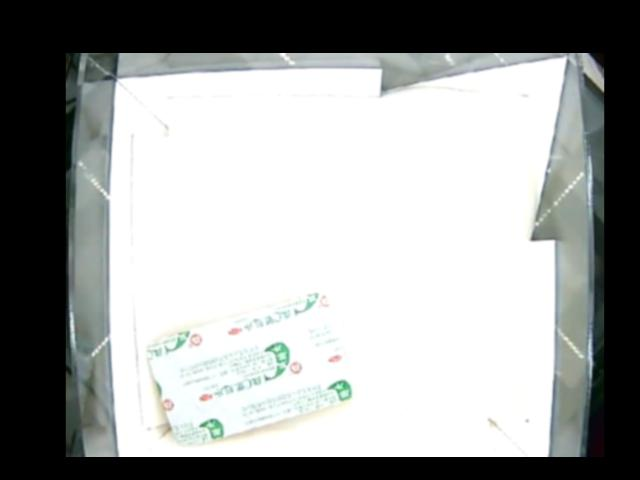Medicine: (143, 292, 356, 442)
